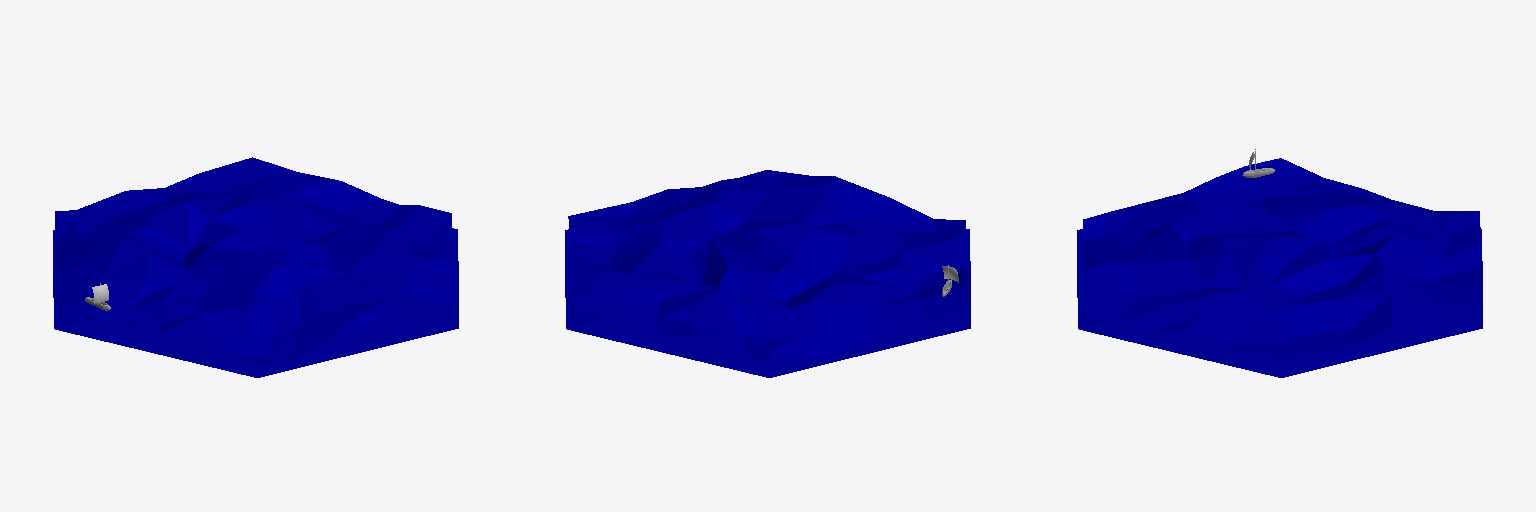
Rendered from water3.obj.
The picture shows the model from 3 angles: view 1: azimuth 30°, elevation 25°; view 2: azimuth 150°, elevation 25°; view 3: azimuth 270°, elevation 25°; orthographic projection.
Visible parts, largest first — view 1: Circle.002; view 2: Circle.002; view 3: Circle.002.
Boxes of the visible parts, x1=… form: Circle.002: x1=53, y1=157, x2=458, y2=377; Circle.002: x1=565, y1=170, x2=970, y2=377; Circle.002: x1=1077, y1=151, x2=1482, y2=377.
Bounding box in the file's own units: 1.96 × 0.216 × 1.7.